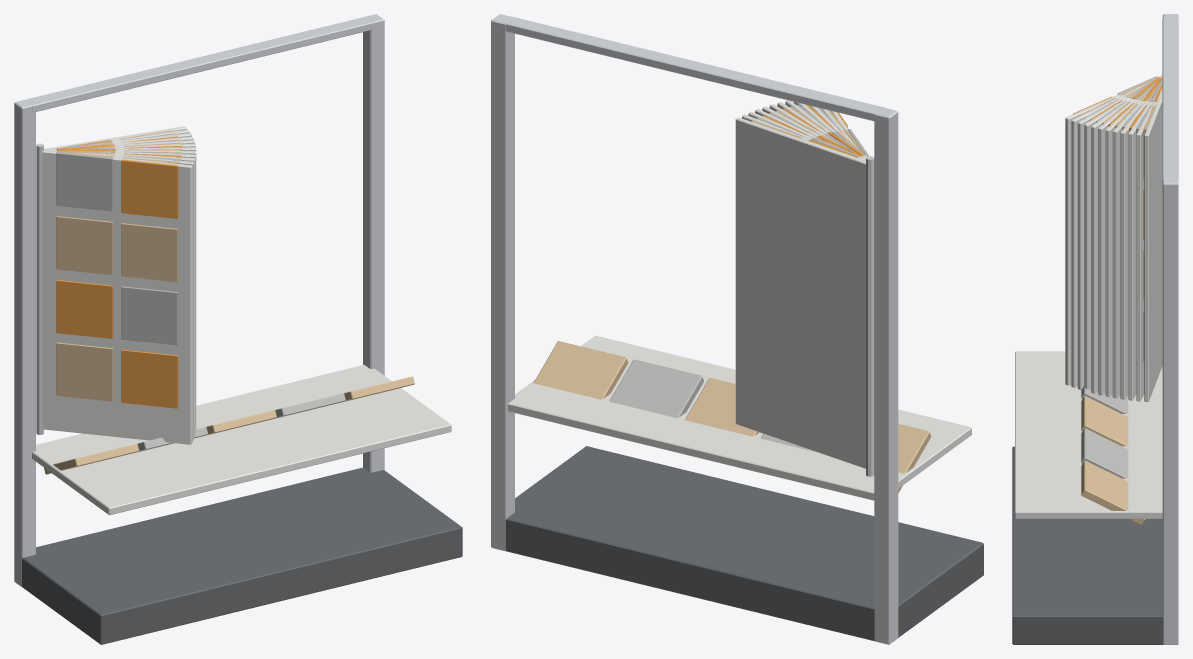
The model's file is tile-display-slider-rack.glb.
3 renders of one model, left to right at view 1: azimuth 30°, elevation 25°; view 2: azimuth 150°, elevation 25°; view 3: azimuth 270°, elevation 25°, orthographic. The views are drawn at different scales.
Parts seen in each view (by area): view 1: tile-display-slider-rack; view 2: tile-display-slider-rack; view 3: tile-display-slider-rack.
Part boxes in pixels (x1,y1,x2,y2): tile-display-slider-rack: [14, 14, 462, 644]; tile-display-slider-rack: [491, 14, 983, 644]; tile-display-slider-rack: [1012, 14, 1178, 644].
Bounding box in the file's own units: 1.5 × 1.9 × 0.6212.
